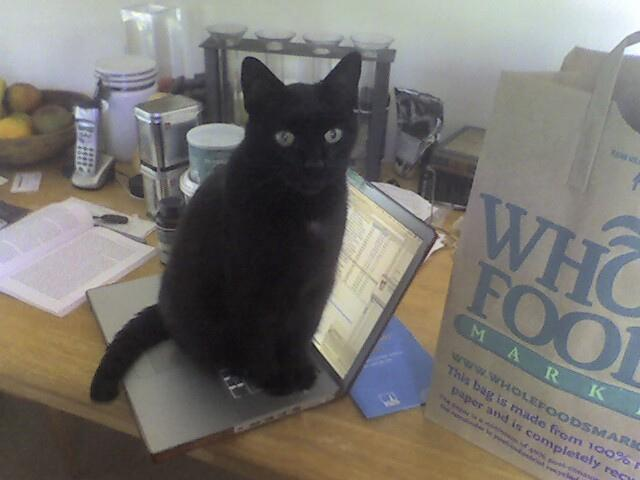tv: (308, 161, 452, 397)
